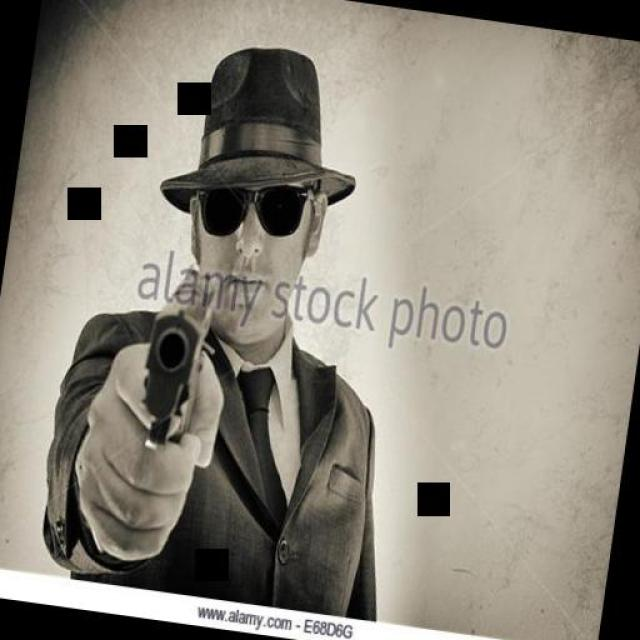gun: (139, 264, 220, 451)
